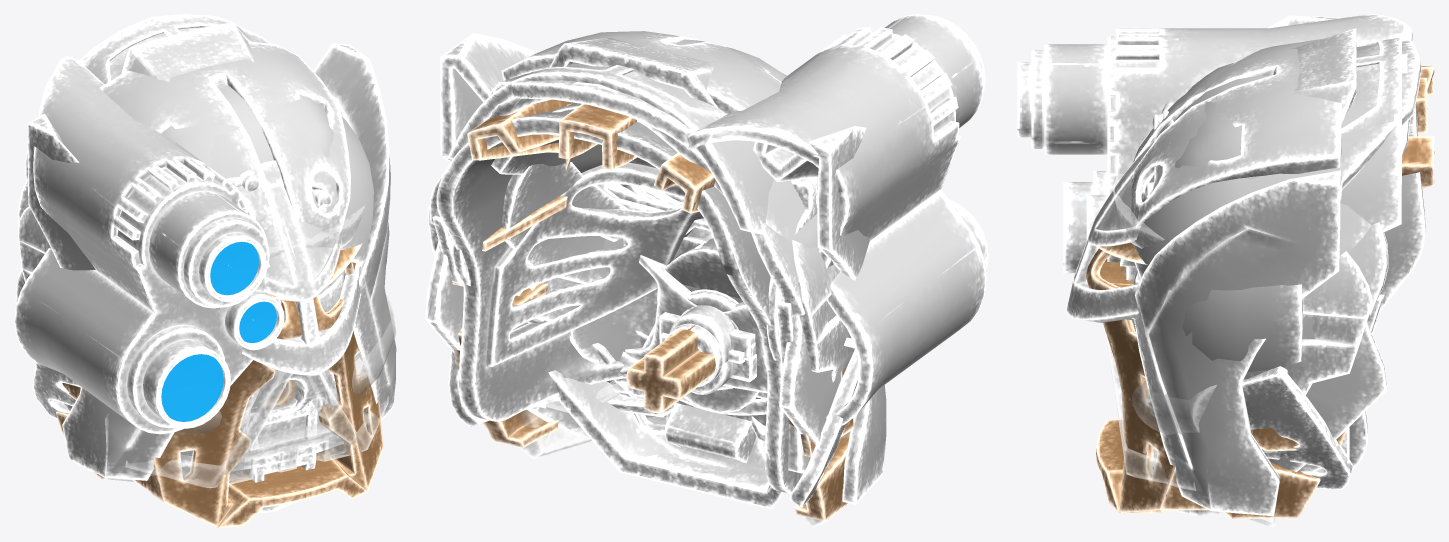
The model's file is masks.glb.
3 views of the same model, side by side, from view 1: azimuth 30°, elevation 25°; view 2: azimuth 150°, elevation 25°; view 3: azimuth 270°, elevation 25° (orthographic). The views are drawn at different scales.
Visible parts, largest first — view 1: Akaku, Matatu, Avohkii, Miru, Kaukau, Pakari, Mahiki, Huna, Kakama, Ruru, Rau; view 2: Akaku, Hau, Matatu, Pakari, Avohkii, Miru, Rau, Kakama, Mahiki, Huna, Komau, Kaukau (+1 smaller); view 3: Matatu, Akaku, Avohkii, Miru, Pakari, Kakama, Rau, Kaukau, Hau, Mahiki, Komau.
Part boxes in pixels (x1,y1,x2,y2): Akaku: [14, 14, 389, 434]; Matatu: [27, 41, 396, 480]; Avohkii: [56, 243, 383, 527]; Miru: [62, 15, 360, 466]; Kaukau: [87, 189, 396, 488]; Pakari: [17, 22, 254, 282]; Mahiki: [162, 84, 333, 206]; Huna: [244, 398, 317, 482]; Kakama: [32, 358, 363, 419]; Ruru: [254, 270, 358, 417]; Rau: [15, 268, 322, 513]; Akaku: [489, 14, 988, 425]; Hau: [436, 102, 802, 493]; Matatu: [440, 31, 886, 504]; Pakari: [427, 37, 854, 509]; Avohkii: [452, 99, 853, 521]; Miru: [447, 65, 810, 473]; Rau: [425, 82, 842, 467]; Kakama: [448, 162, 858, 507]; Mahiki: [451, 39, 817, 413]; Huna: [491, 103, 756, 463]; Komau: [429, 170, 805, 364]; Kaukau: [517, 307, 849, 527]; Matatu: [1120, 15, 1342, 516]; Akaku: [1017, 14, 1421, 372]; Avohkii: [1086, 66, 1434, 519]; Miru: [1066, 37, 1401, 471]; Pakari: [1243, 28, 1372, 395]; Kakama: [1145, 366, 1352, 489]; Rau: [1176, 53, 1410, 515]; Kaukau: [1104, 174, 1277, 527]; Hau: [1349, 105, 1425, 469]; Mahiki: [1145, 62, 1377, 334]; Komau: [1348, 222, 1388, 332].
Bounding box in the file's own units: 3.71 × 4.18 × 3.6.
